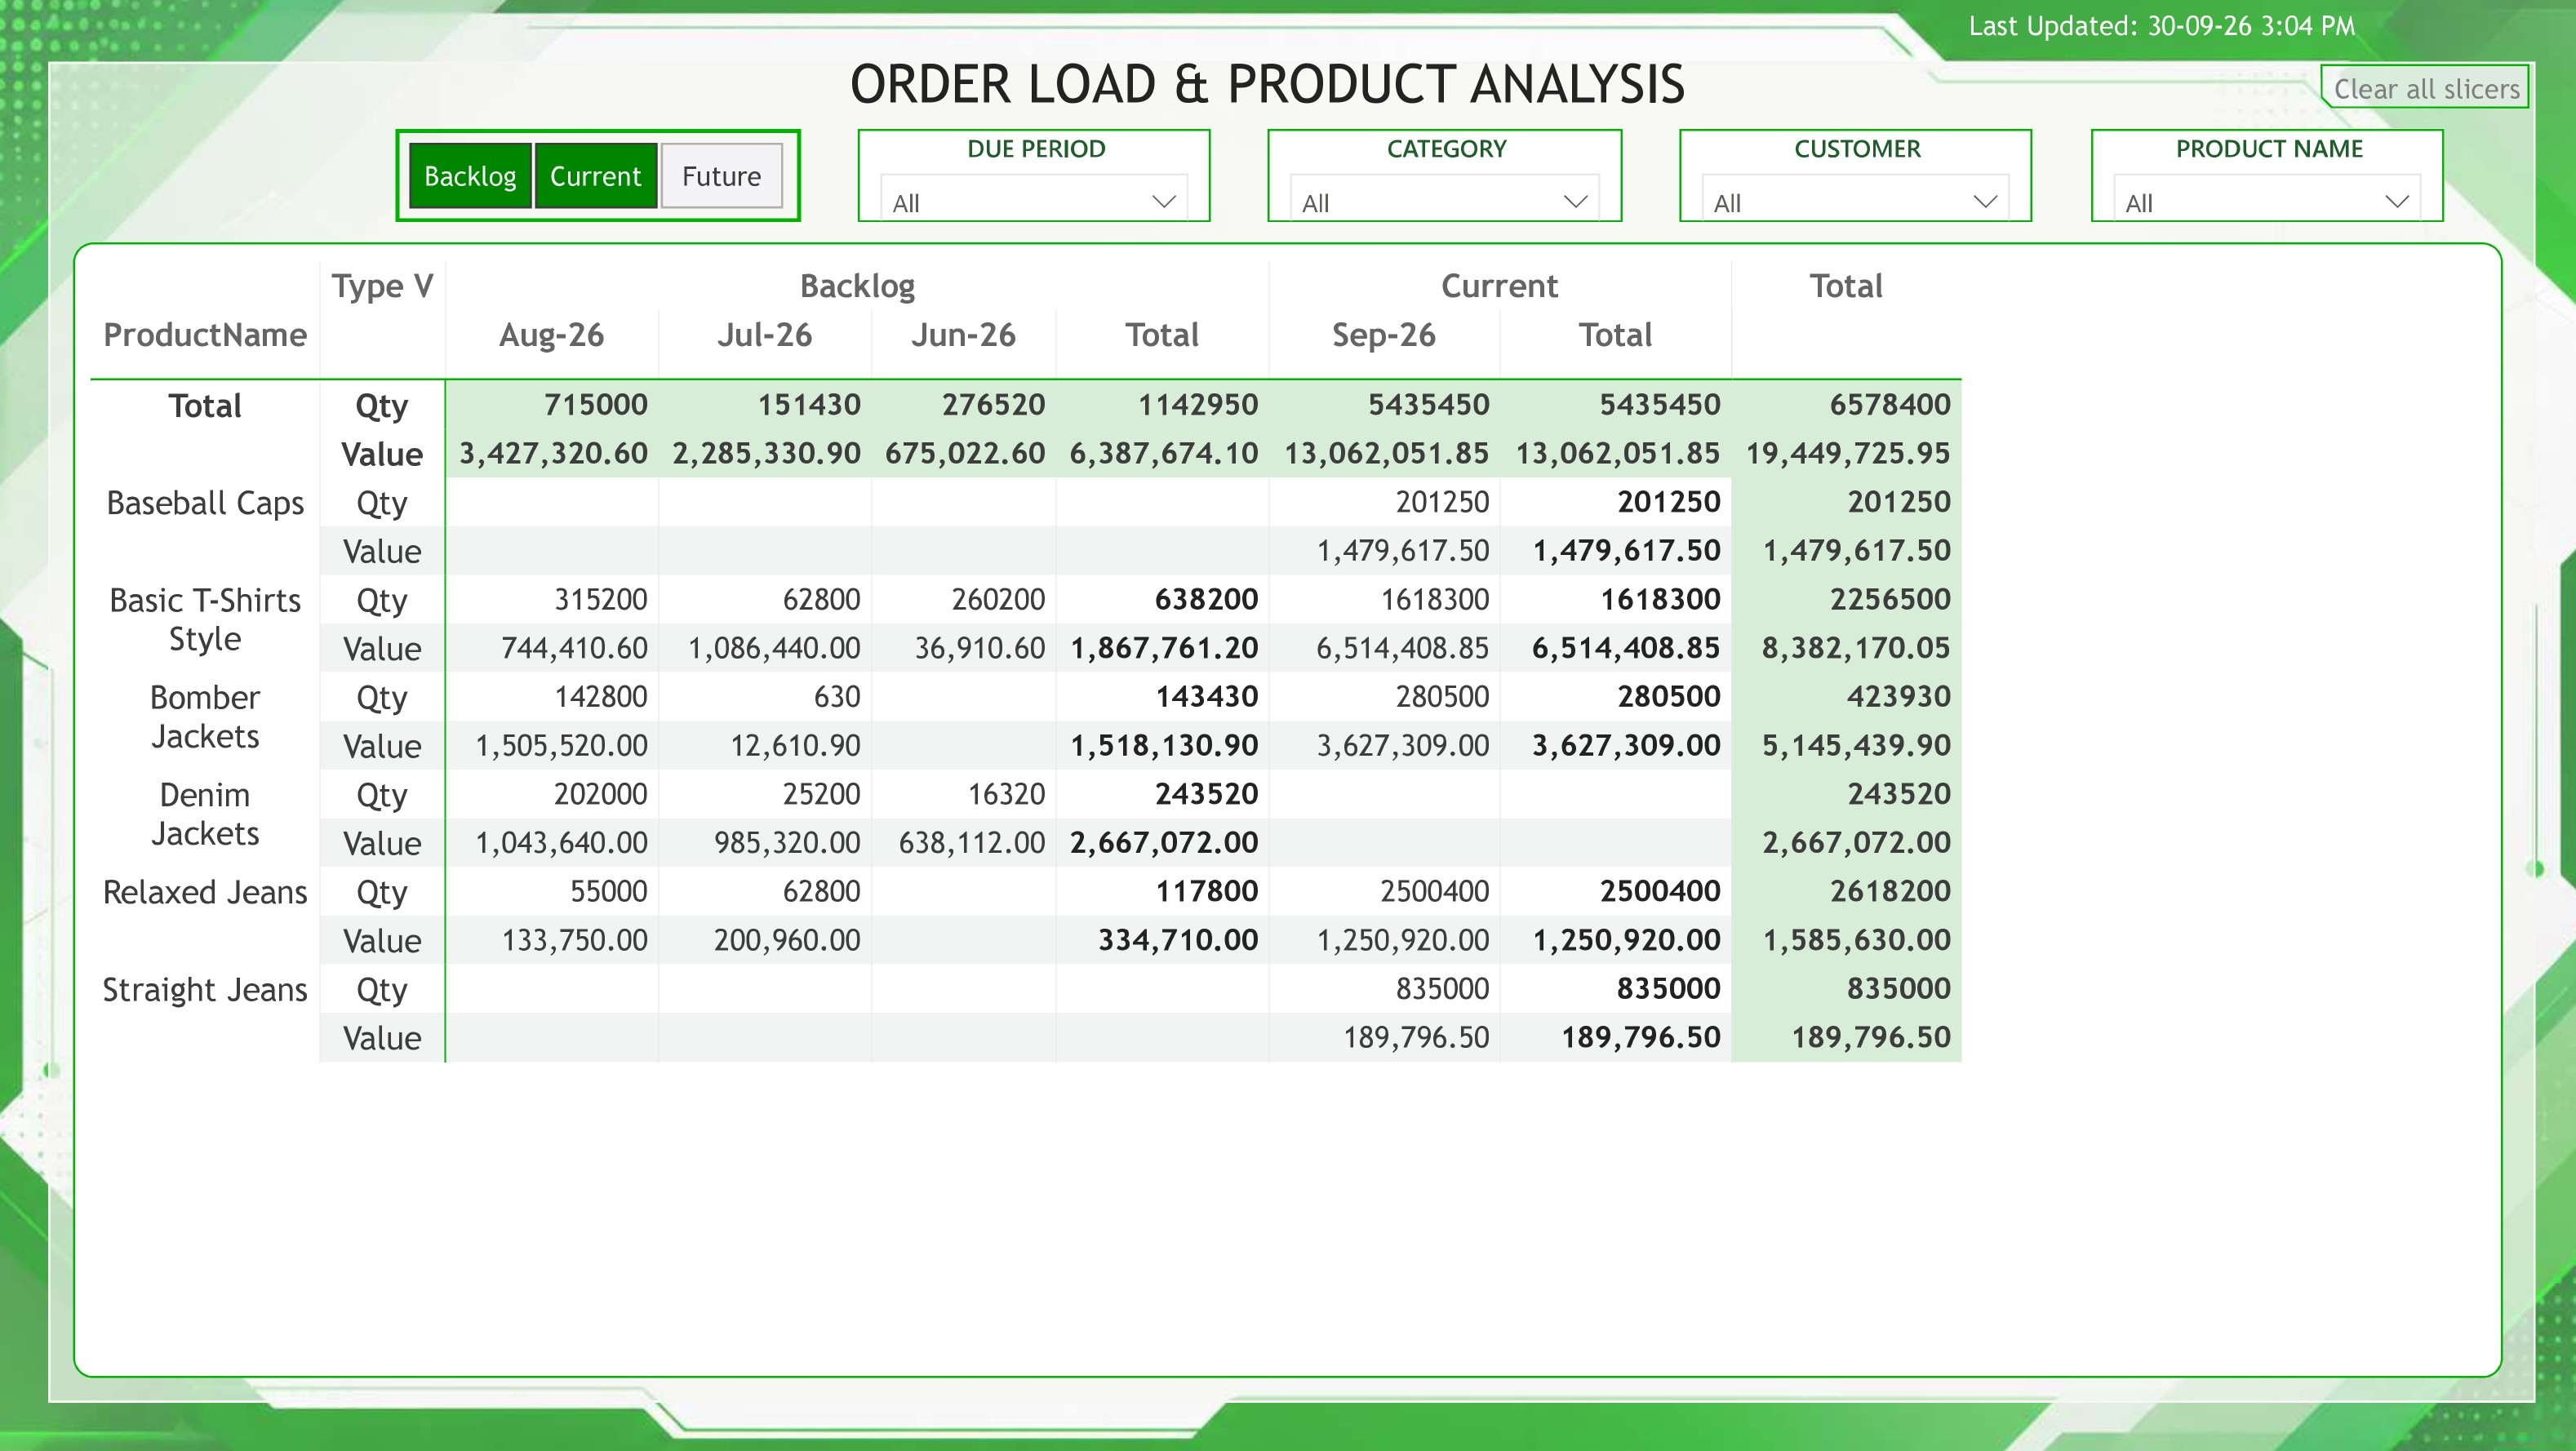

This screenshot's page, from the dashboard's own definition file:
{"tool":"powerbi","page":{"name":"ORDER LOAD ANALYSIS","canvas":[1280,720],"ordinal":1},"visuals":[{"type":"shape","box":[29.5,31.9,1226,660.9],"z":0},{"type":"textbox","box":[419.3,22.3,445.4,76.9],"z":1000},{"type":"advancedSlicerVisual","fields":{"Values":["Sales Order Report.SalesType"]},"box":[199.9,65.1,200.2,45.5],"z":2000},{"type":"slicer","title":"CUSTOMER","fields":{"Values":["Sales Order Report.CardName"]},"box":[832.8,65.1,174.4,45.5],"z":3000},{"type":"slicer","title":"CATEGORY","fields":{"Values":["Sales Order Report.ProductCategory"]},"box":[630.4,65.1,174.4,45.5],"z":4000},{"type":"slicer","title":"PRODUCT NAME","fields":{"Values":["Sales Order Report.ProductName"]},"box":[1035.5,65.1,174.4,45.5],"z":5000},{"type":"pivotTable","fields":{"Columns":["Sales Order Report.Type V","Sales Order Report.Month Year"],"Rows":["Sales Order Report.ProductName","Sales Order Report.ProductCategory","Sales Order Report.Dscription"],"Values":["Sales Order Report.Order Quantity","Sales Order Report.Order Value"]},"box":[40.8,121.1,1198.4,559.7],"z":6000},{"type":"card","fields":{"Values":["Refresh_Date.Refresh_Updated"]},"box":[961.3,0,219.3,31.9],"z":7000},{"type":"actionButton","box":[1148.7,33.1,103.3,21.7],"z":8000},{"type":"slicer","title":"DUE PERIOD","fields":{"Values":["Sales Order Report.Year","Sales Order Report.Month YEar"]},"box":[428.1,65.1,174.4,45.5],"z":9000}]}

Visuals, with their boxes in screenshot pixels (x1, y1, x2, y2), scaled from the page's 1280x720 canvas onto the 2576x1451 screenshot:
shape: (60, 64, 2527, 1396)
textbox: (844, 45, 1740, 200)
advancedSlicerVisual - Sales Order Report.SalesType: (402, 131, 805, 223)
"CUSTOMER" slicer: (1676, 131, 2027, 223)
"CATEGORY" slicer: (1268, 131, 1619, 223)
"PRODUCT NAME" slicer: (2084, 131, 2435, 223)
pivotTable - Sales Order Report.Type V x Sales Order Report.Month Year: (82, 244, 2494, 1372)
card - Refresh_Date.Refresh_Updated: (1934, 0, 2376, 64)
actionButton: (2312, 67, 2520, 110)
"DUE PERIOD" slicer: (862, 131, 1213, 223)
